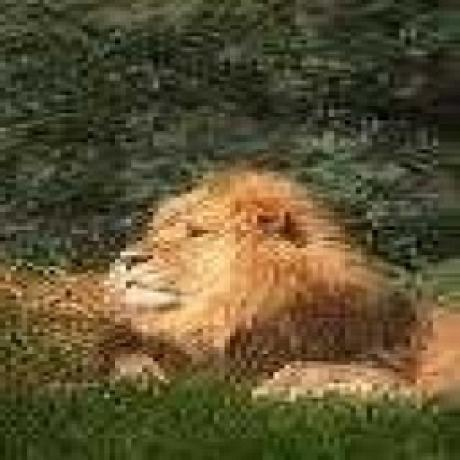Lion: (108, 166, 460, 402)
